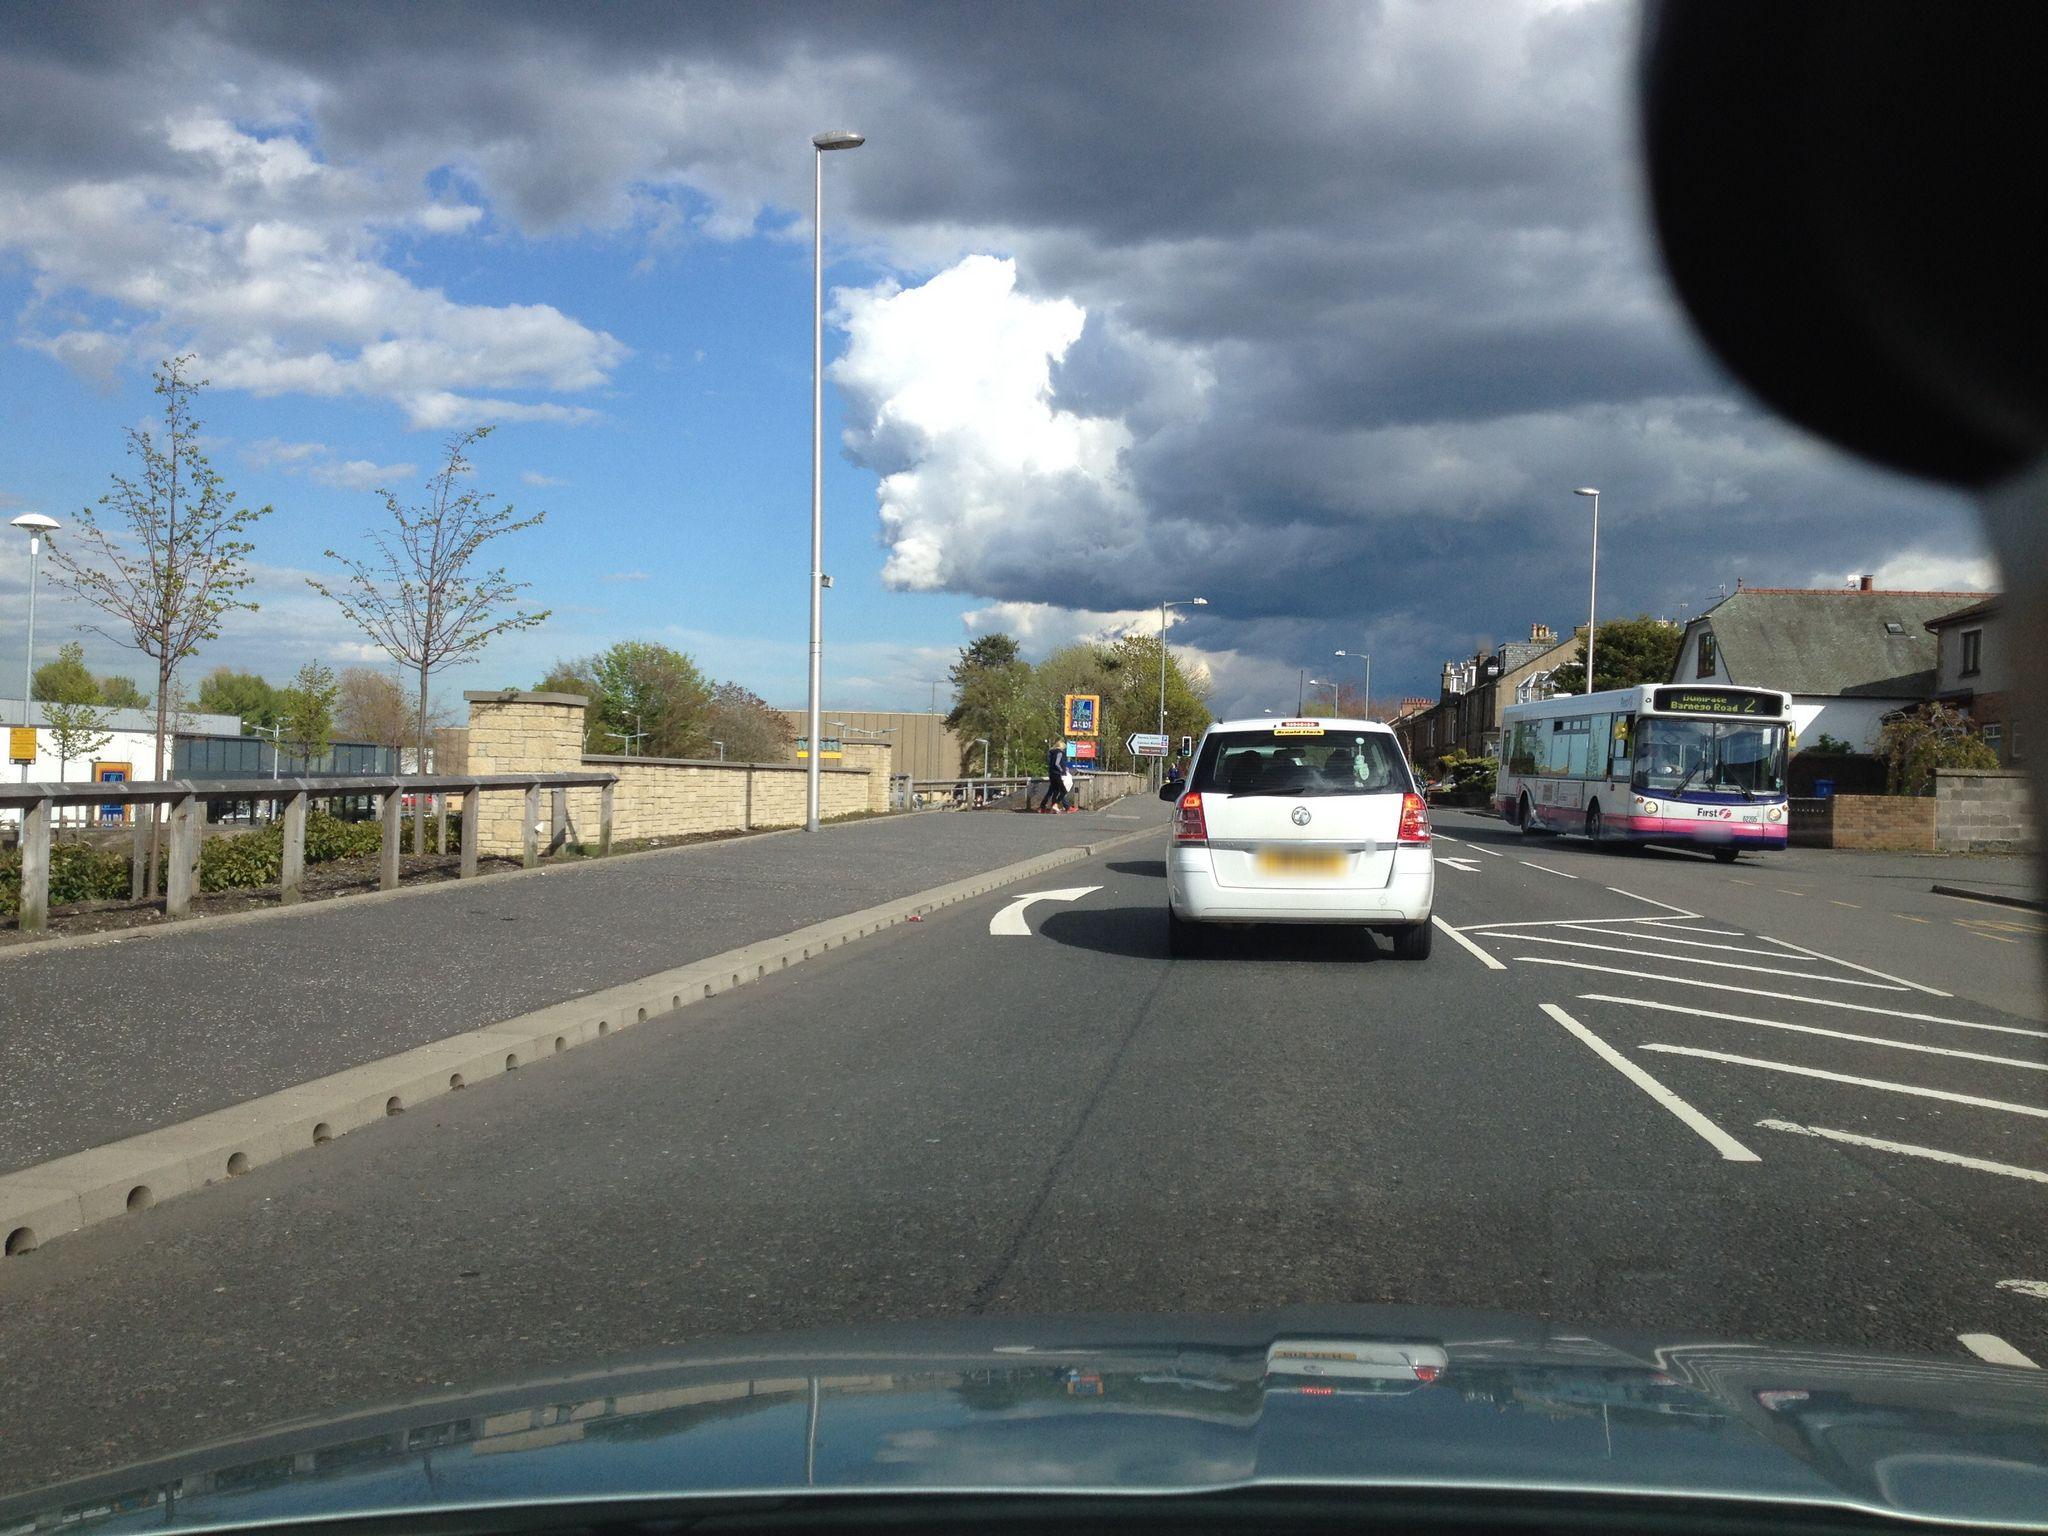bus: (1493, 681, 1796, 862)
car: (1156, 715, 1438, 960)
